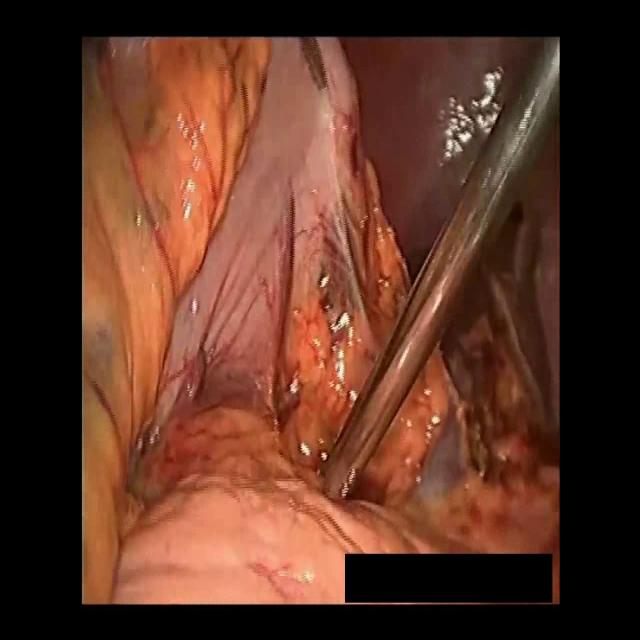surgical-area: (81, 36, 560, 605)
surgical-tool: (318, 39, 560, 503)
